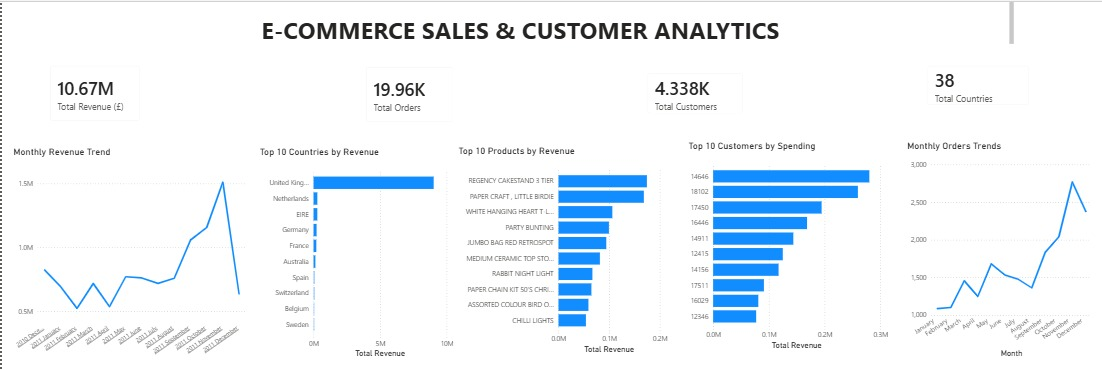

The dashboard page shown, as its layout file describes it:
{"tool":"powerbi","page":{"name":"Page 1","canvas":[2000,720],"ordinal":0},"visuals":[{"type":"cardVisual","fields":{"Data":["public online_retail_clean.Total Revenue"]},"box":[70,150.9,197.6,134.5],"z":0},{"type":"cardVisual","fields":{"Data":["Count(public online_retail_clean.invoiceno)"]},"box":[645.5,152.3,192.1,134.5],"z":1000},{"type":"cardVisual","fields":{"Data":["Count(public online_retail_clean.customerid)"]},"box":[1156.8,163.6,207.2,107],"z":2000},{"type":"cardVisual","fields":{"Data":["Count(public online_retail_clean.country)"]},"box":[1665.9,150,218.2,105.7],"z":3000},{"type":"lineChart","title":"Monthly Revenue Trend","fields":{"Y":["public online_retail_clean.Total Revenue"],"Category":["public online_retail_clean.invoicedate.Variation.Date Hierarchy.Year","public online_retail_clean.invoicedate.Variation.Date Hierarchy.Month"]},"box":[16,314,432,390],"z":4000},{"type":"clusteredBarChart","title":"Top 10 Countries by Revenue","fields":{"Category":["public online_retail_clean.country"],"Y":["public online_retail_clean.Total Revenue"]},"box":[464,314,362,390],"z":5000},{"type":"clusteredBarChart","title":"Top 10 Products by Revenue ","fields":{"Category":["public online_retail_clean.description"],"Y":["public online_retail_clean.Total Revenue"]},"box":[825.5,310.9,390.2,383.8],"z":6000},{"type":"lineChart","title":"Monthly Orders Trends","fields":{"Category":["public online_retail_clean.invoicedate.Variation.Date Hierarchy.Year","public online_retail_clean.invoicedate.Variation.Date Hierarchy.Month"],"Y":["Count(public online_retail_clean.invoiceno)"]},"box":[1640.2,302.3,344.8,399.7],"z":7000},{"type":"clusteredBarChart","title":"Top 10 Customers by Spending","fields":{"Y":["public online_retail_clean.Total Revenue"],"Category":["public online_retail_clean.customerid"]},"box":[1243.6,302.3,373.1,385.9],"z":8000},{"type":"textbox","box":[49.3,32.2,1794.6,100.8],"z":9000}]}

Visuals, with their boxes on the page's 2000x720 design canvas (x1, y1, x2, y2). These are canvas units, not pixel positions in the 1102x370 screenshot, which may show the page scaled, cropped or inside an application window:
cardVisual - public online_retail_clean.Total Revenue: select_region(70, 151, 268, 285)
cardVisual - Count(public online_retail_clean.invoiceno): select_region(646, 152, 838, 287)
cardVisual - Count(public online_retail_clean.customerid): select_region(1157, 164, 1364, 271)
cardVisual - Count(public online_retail_clean.country): select_region(1666, 150, 1884, 256)
"Monthly Revenue Trend" lineChart: select_region(16, 314, 448, 704)
"Top 10 Countries by Revenue" clusteredBarChart: select_region(464, 314, 826, 704)
"Top 10 Products by Revenue " clusteredBarChart: select_region(826, 311, 1216, 695)
"Monthly Orders Trends" lineChart: select_region(1640, 302, 1985, 702)
"Top 10 Customers by Spending" clusteredBarChart: select_region(1244, 302, 1617, 688)
textbox: select_region(49, 32, 1844, 133)
